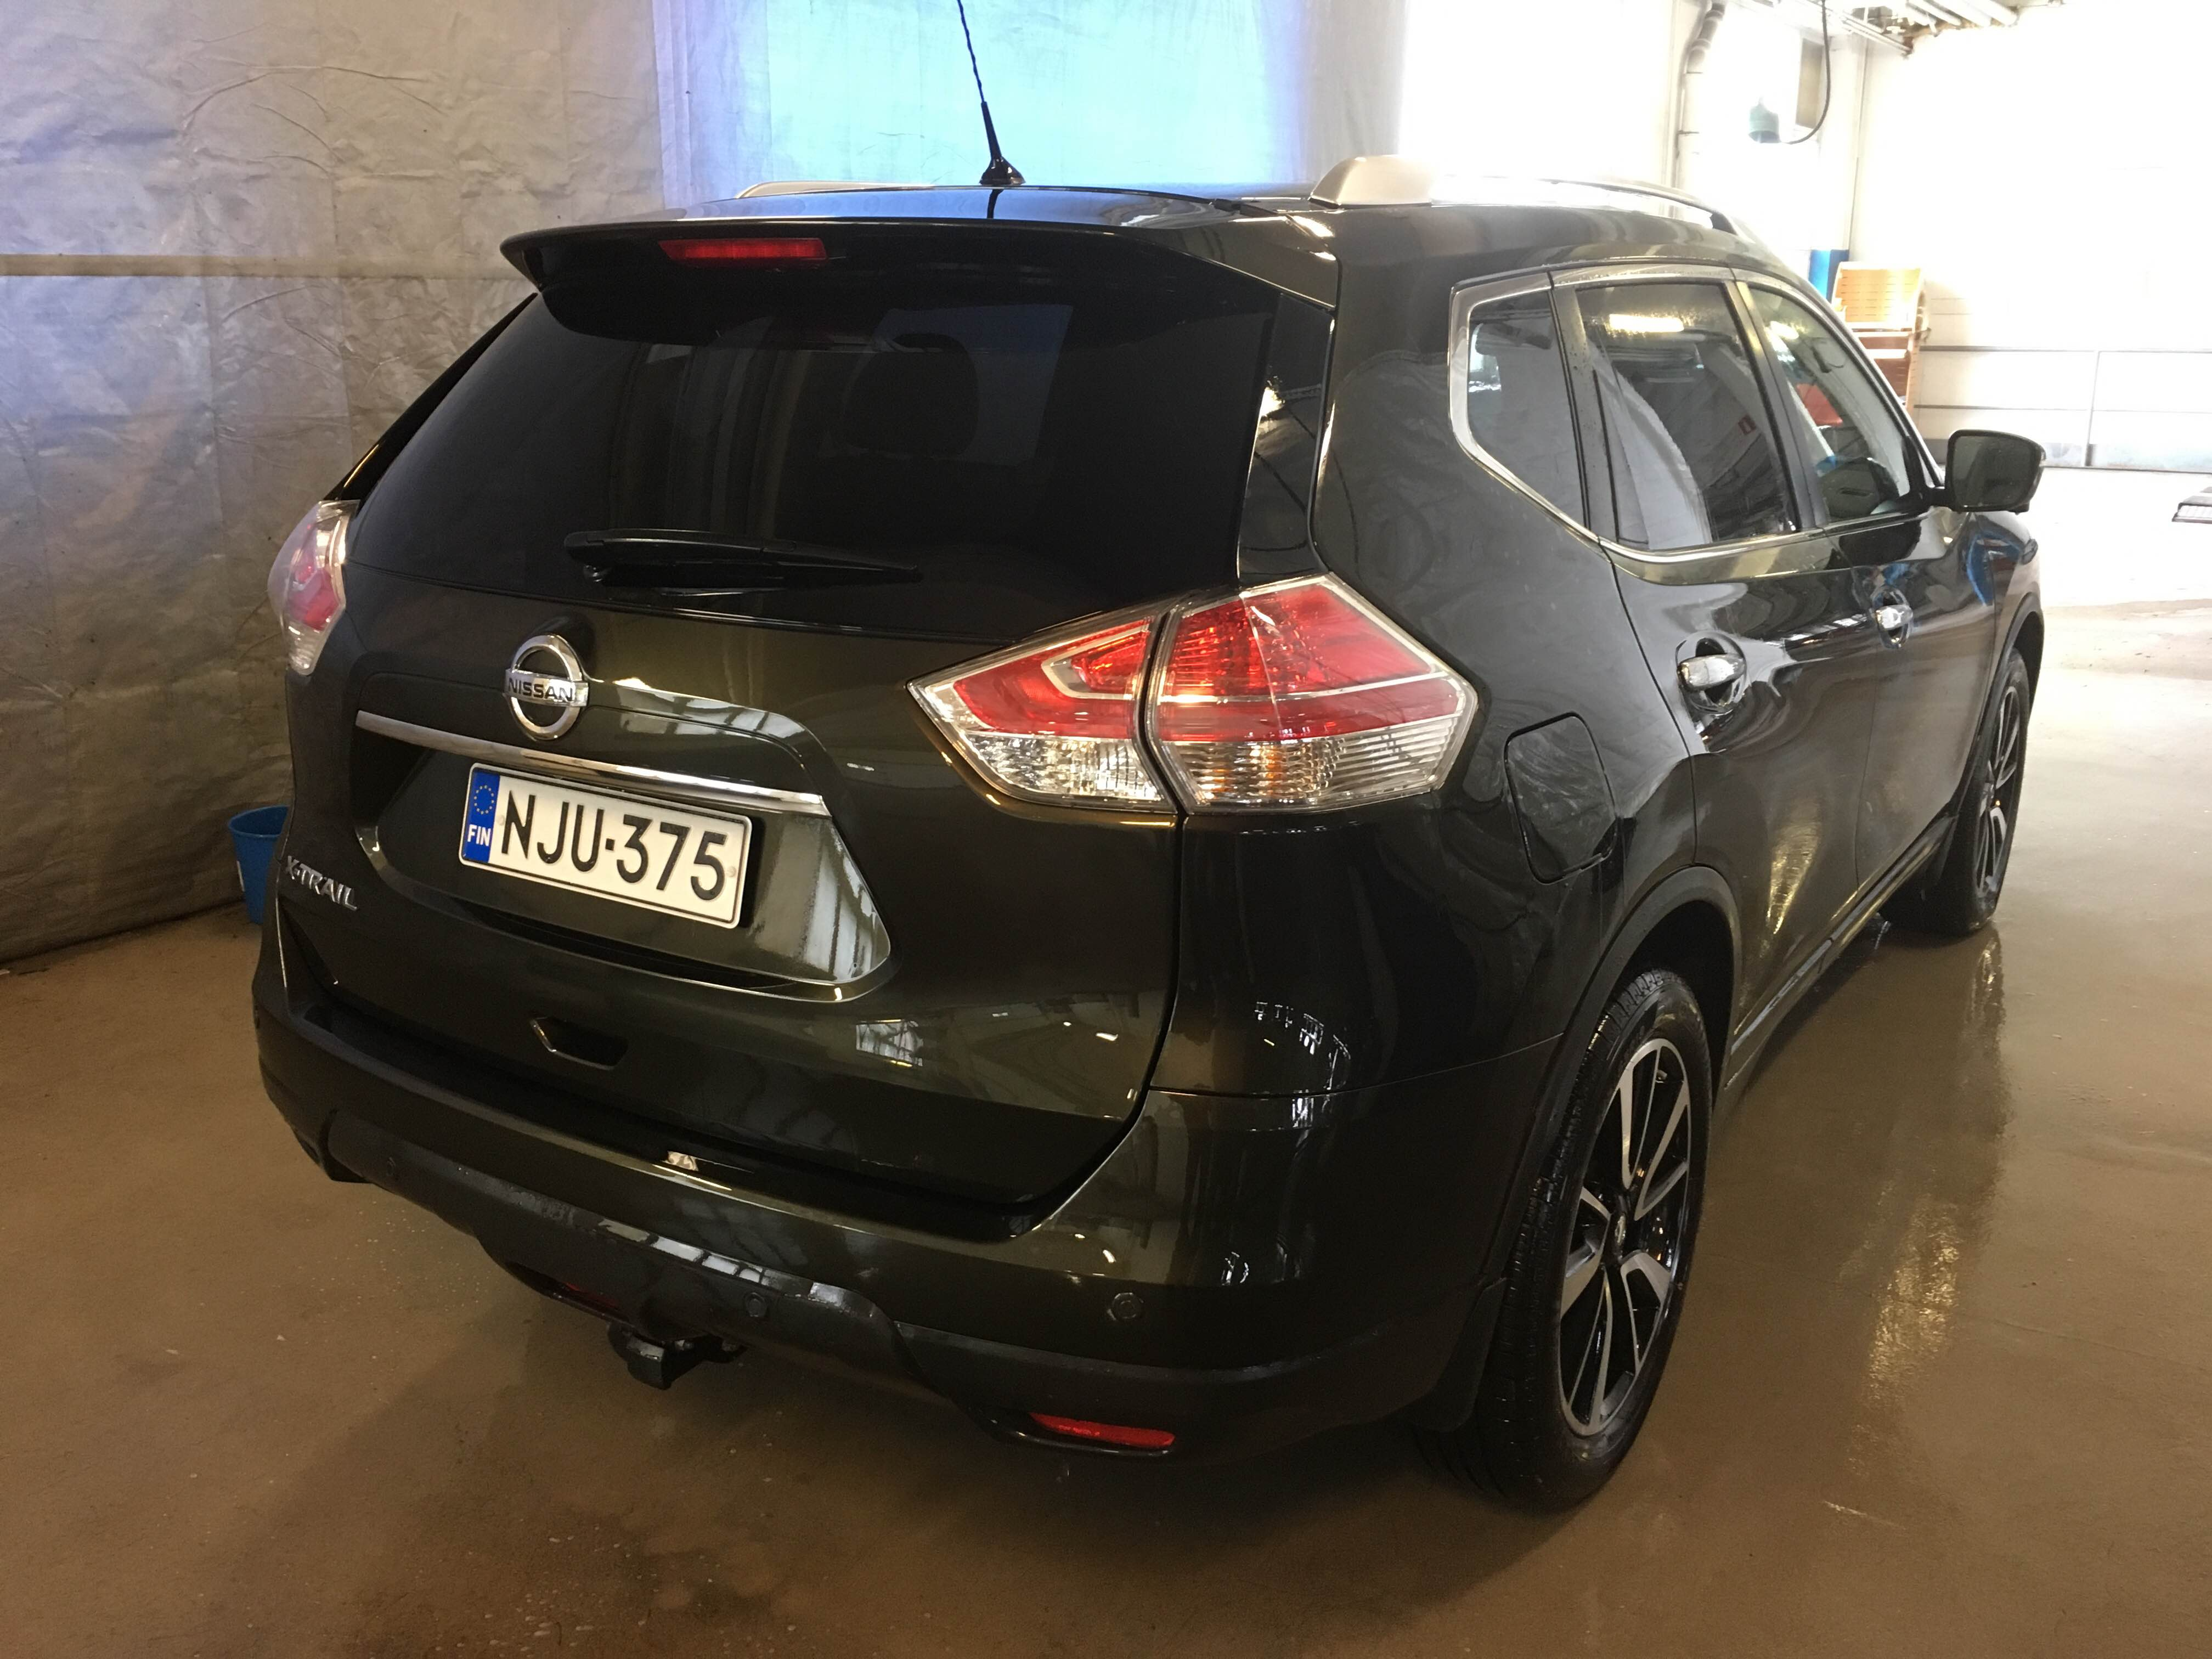license: (459, 765, 746, 927)
